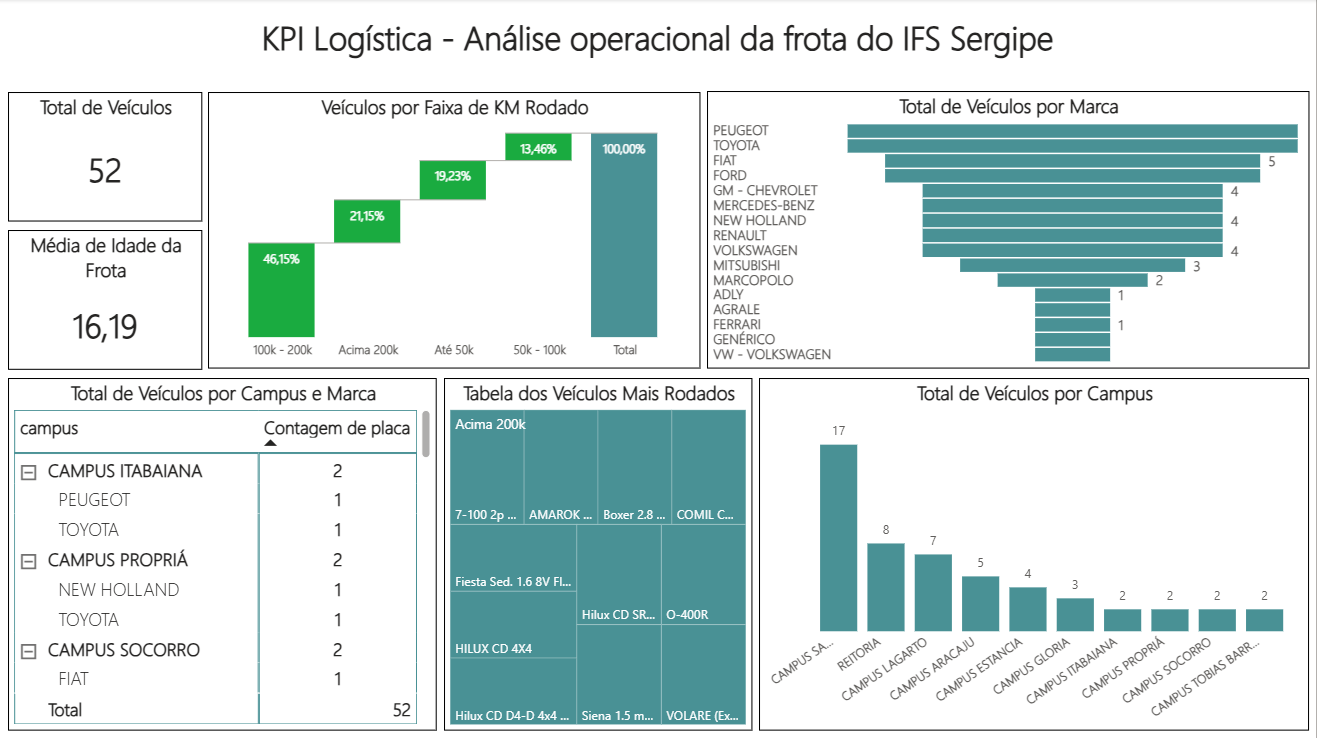

This screenshot's page, from the dashboard's own definition file:
{"tool":"powerbi","page":{"name":"KPI","canvas":[1280,720],"ordinal":0},"visuals":[{"type":"card","title":"Total de Veículos","fields":{"Values":["Count(frota.placa)"]},"box":[7.8,90.5,188.7,126.4],"z":0},{"type":"columnChart","title":"Total de Veículos por Campus","fields":{"Category":["frota.campus"],"Y":["CountNonNull(frota.placa)"]},"box":[738.2,368.6,535,343.3],"z":1000},{"type":"funnel","title":"Total de Veículos por Marca","fields":{"Category":["frota.marca"],"Y":["Count(frota.placa)"]},"box":[687.7,89.5,585.5,270.4],"z":2000},{"type":"card","title":"Média de Idade da Frota","fields":{"Values":["Avg(frota.idade_frota)"]},"box":[7.8,224.7,188.7,136.2],"z":3000},{"type":"pivotTable","title":"Total de Veículos por Campus e Marca","fields":{"Rows":["frota.campus","frota.marca"],"Values":["CountNonNull(frota.placa)"]},"box":[7.8,368.6,417.3,343.3],"z":4000},{"type":"waterfallChart","title":"Veículos por Faixa de KM Rodado","fields":{"Category":["frota.faixa_km"],"Y":["CountNonNull(frota.placa)"]},"box":[202.3,90.5,478.5,269.4],"z":5000},{"type":"textbox","box":[210,10,859,67],"z":6000},{"type":"treemap","title":"Tabela dos Veículos Mais Rodados","fields":{"Group":["frota.faixa_km"],"Values":["CountNonNull(frota.placa)"],"Details":["frota.modelo"]},"box":[431.9,368.6,299.6,343.3],"z":7000}]}

Visuals, with their boxes in screenshot pixels (x1, y1, x2, y2), scaled from the page's 1280x720 canvas onto the 1317x738 screenshot:
"Total de Veículos" card: detection(8, 93, 202, 222)
"Total de Veículos por Campus" columnChart: detection(760, 378, 1310, 730)
"Total de Veículos por Marca" funnel: detection(708, 92, 1310, 369)
"Média de Idade da Frota" card: detection(8, 230, 202, 370)
"Total de Veículos por Campus e Marca" pivotTable: detection(8, 378, 437, 730)
"Veículos por Faixa de KM Rodado" waterfallChart: detection(208, 93, 700, 369)
textbox: detection(216, 10, 1100, 79)
"Tabela dos Veículos Mais Rodados" treemap: detection(444, 378, 753, 730)
